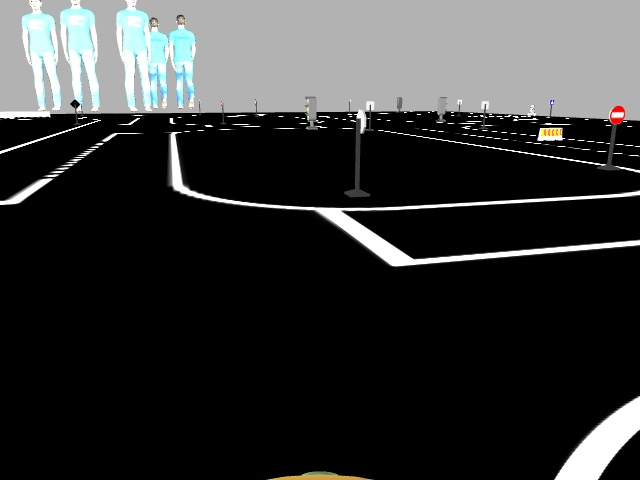NoEntry: (607, 102, 626, 127)
